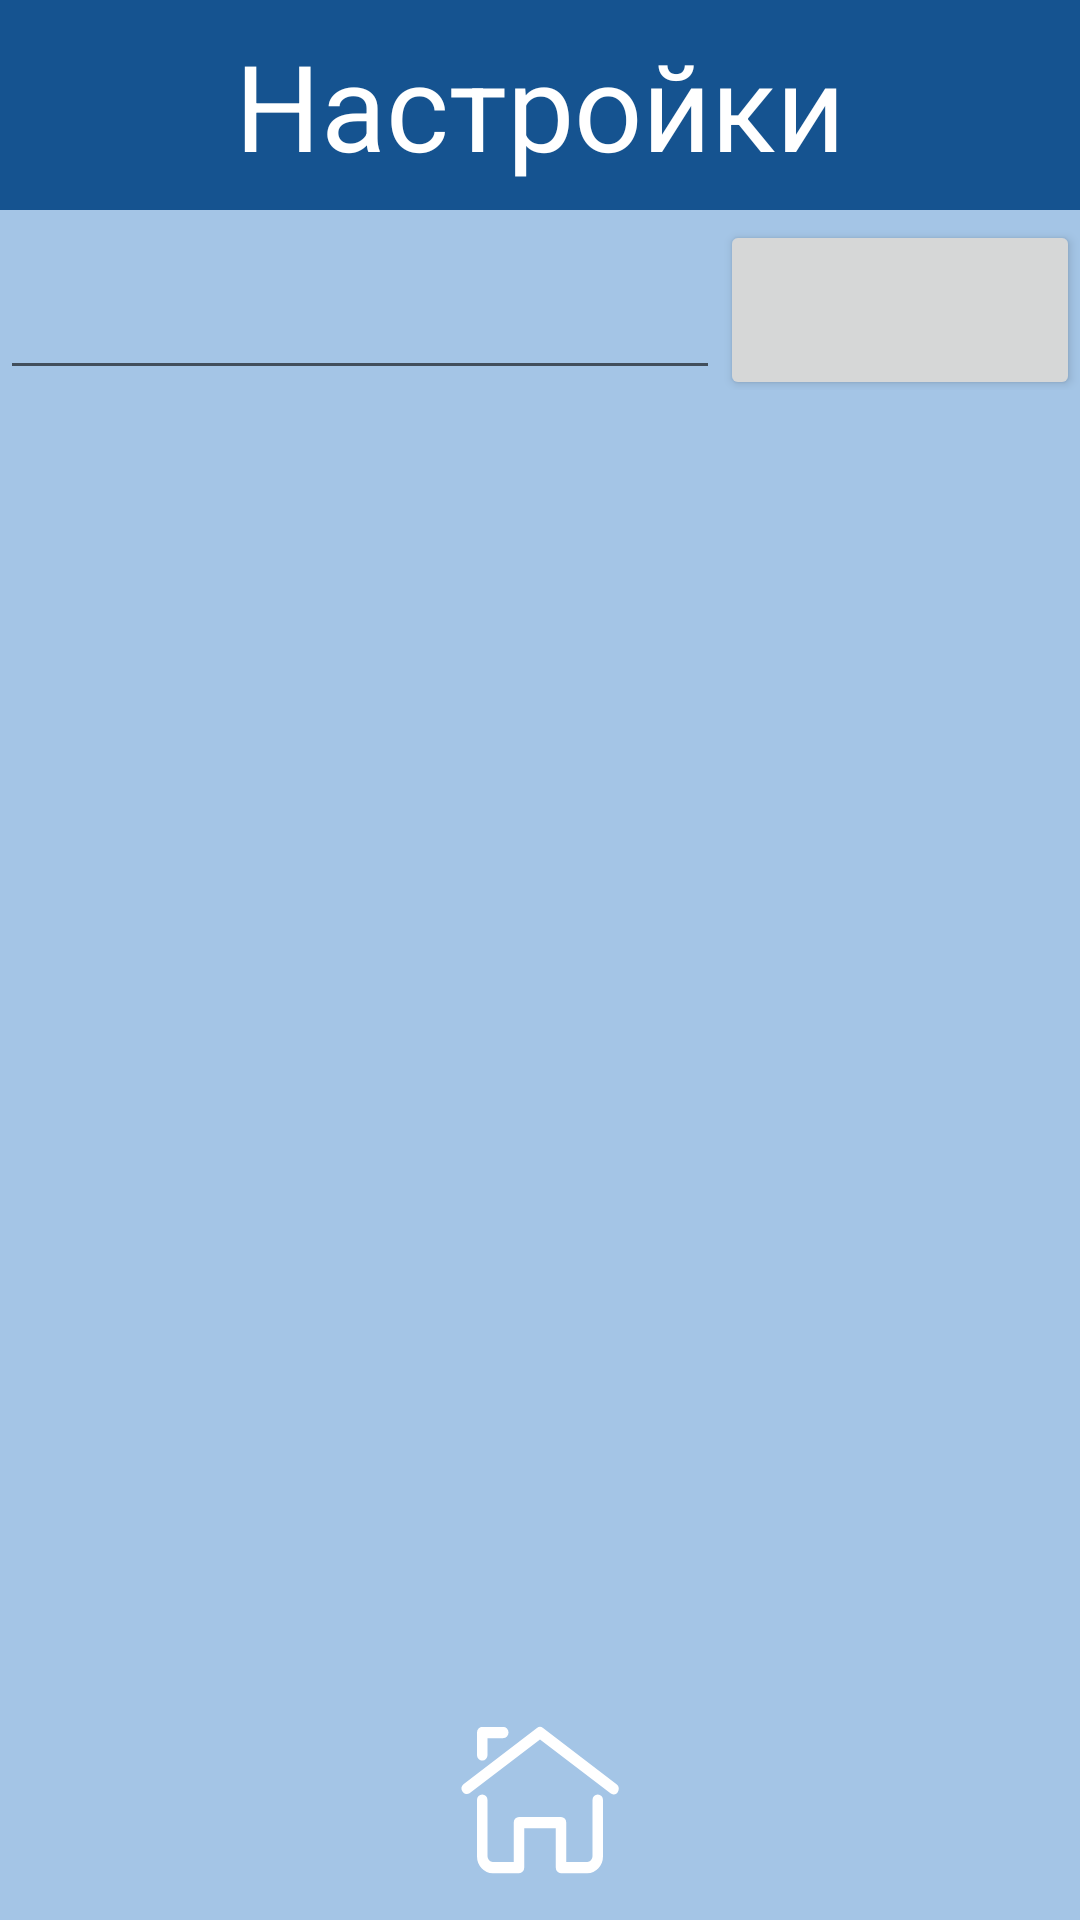

Screen size 1080px×1920px. Icon name, then its box in pixels as (x1, y1, x2, y2):
home: (461, 1727, 619, 1873)
